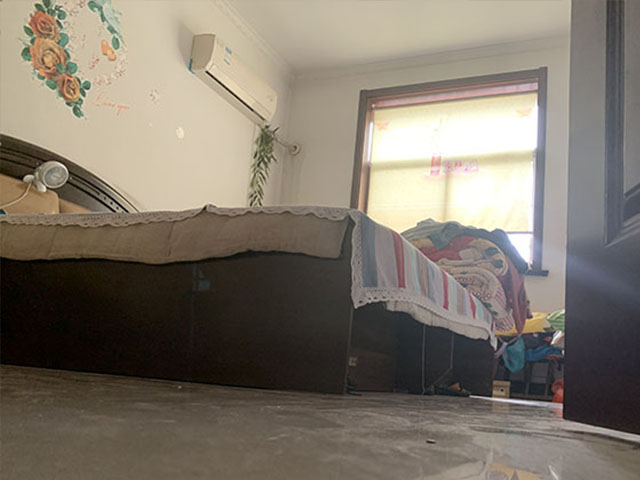bed: (1, 131, 493, 398)
stool: (522, 352, 558, 399)
